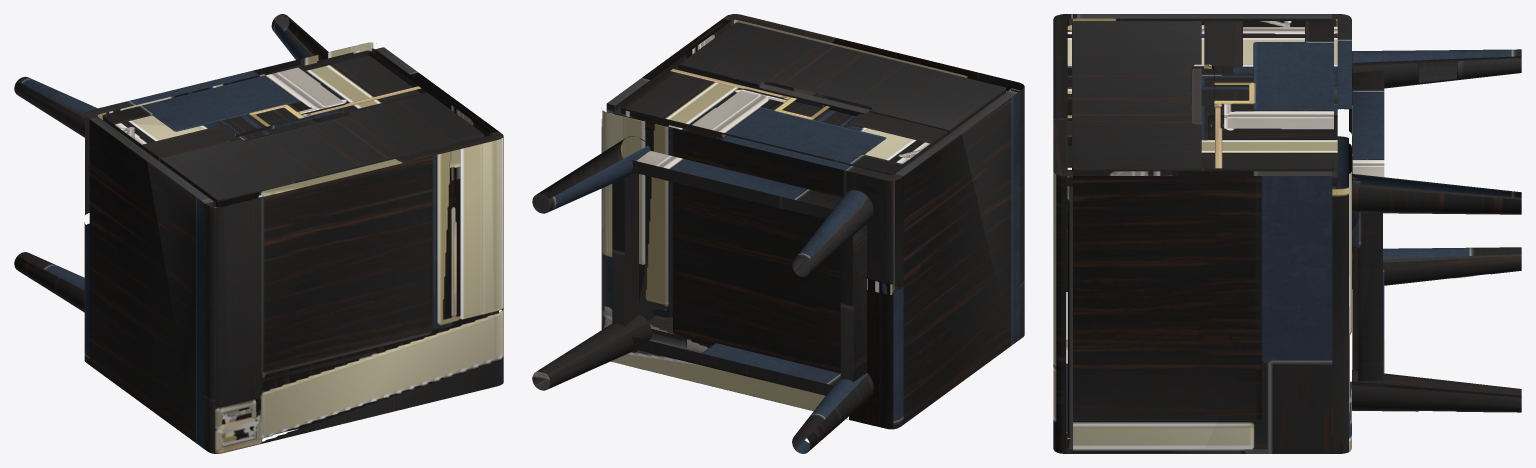
The picture shows the model from 3 angles, left to right: view 1: azimuth 30°, elevation 25°; view 2: azimuth 150°, elevation 25°; view 3: azimuth 270°, elevation 25°; orthographic projection. The views are drawn at different scales.
Size of the model in its own units: 0.4505 by 0.3602 by 0.5502.
